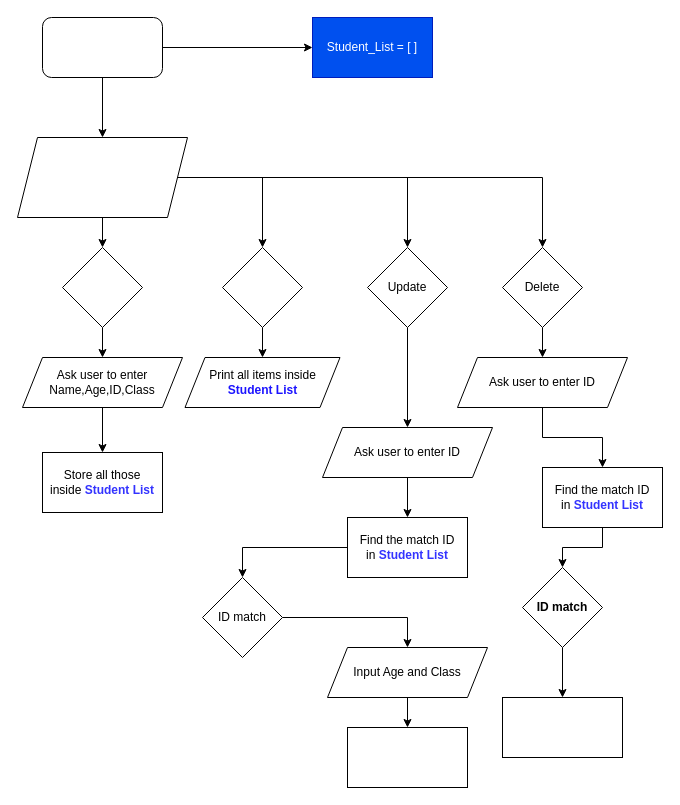
This 680x805 diagram has some shape labels left out. Here are the shapes that lost their labels. From the top down, the centre of each, then its label:
the point at 102,47: Start
the point at 102,177: Ask user to input the number of given options
the point at 102,287: Create
the point at 262,287: Display
the point at 562,727: Delete the matching student in Student List
the point at 407,757: Store New update in Student List
